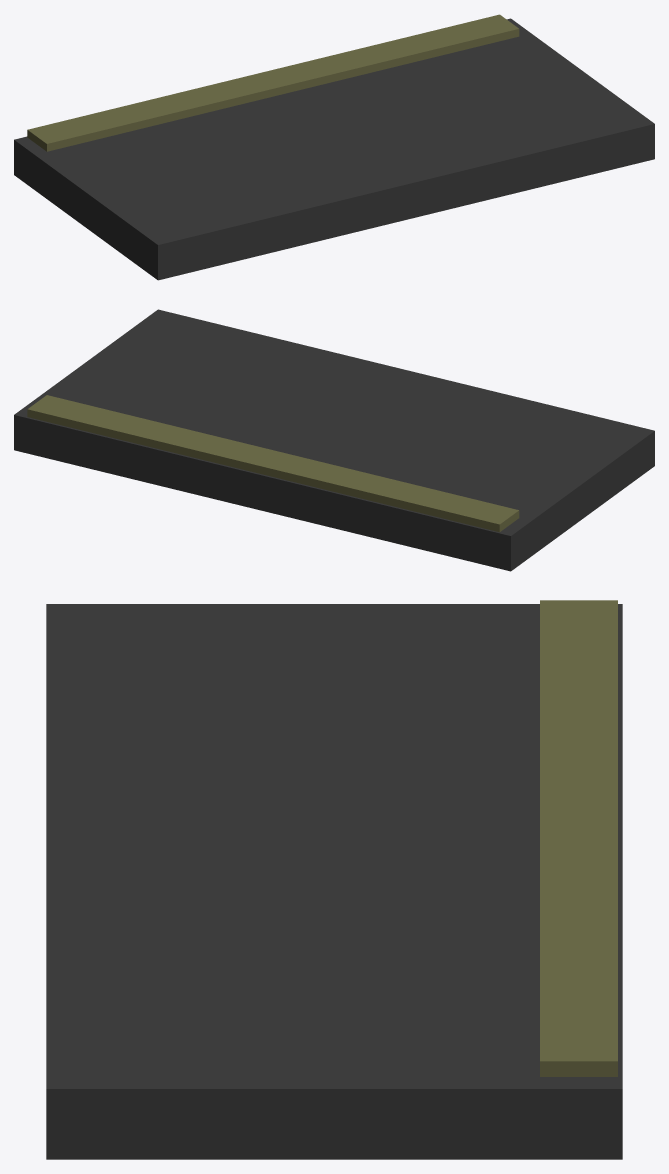
Rendered from GoalGround.fbx.
The picture shows the model from 3 angles, top to bottom: view 1: azimuth 30°, elevation 25°; view 2: azimuth 150°, elevation 25°; view 3: azimuth 270°, elevation 25°; orthographic projection. The views are drawn at different scales.
Visible parts, largest first — view 1: pCube3; view 2: pCube3; view 3: pCube3.
Boxes of the visible parts, <box> form: pCube3: <box>14,14,654,280</box>; pCube3: <box>14,309,654,571</box>; pCube3: <box>46,600,622,1159</box>.
Bounding box in the file's own units: 0.1471 × 0.0122 × 0.0739.
